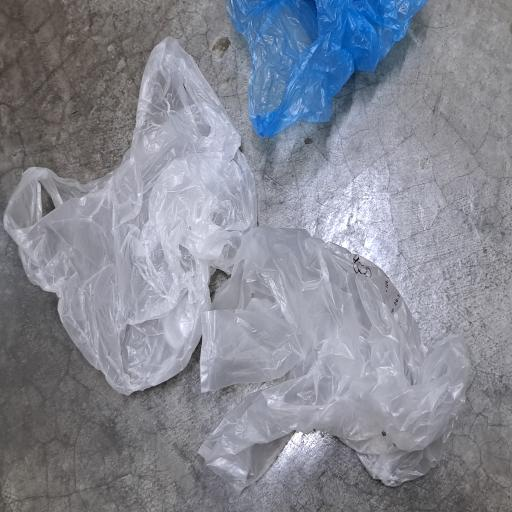plastic bag: (85, 0, 357, 331), (25, 249, 217, 512), (279, 301, 383, 512)
